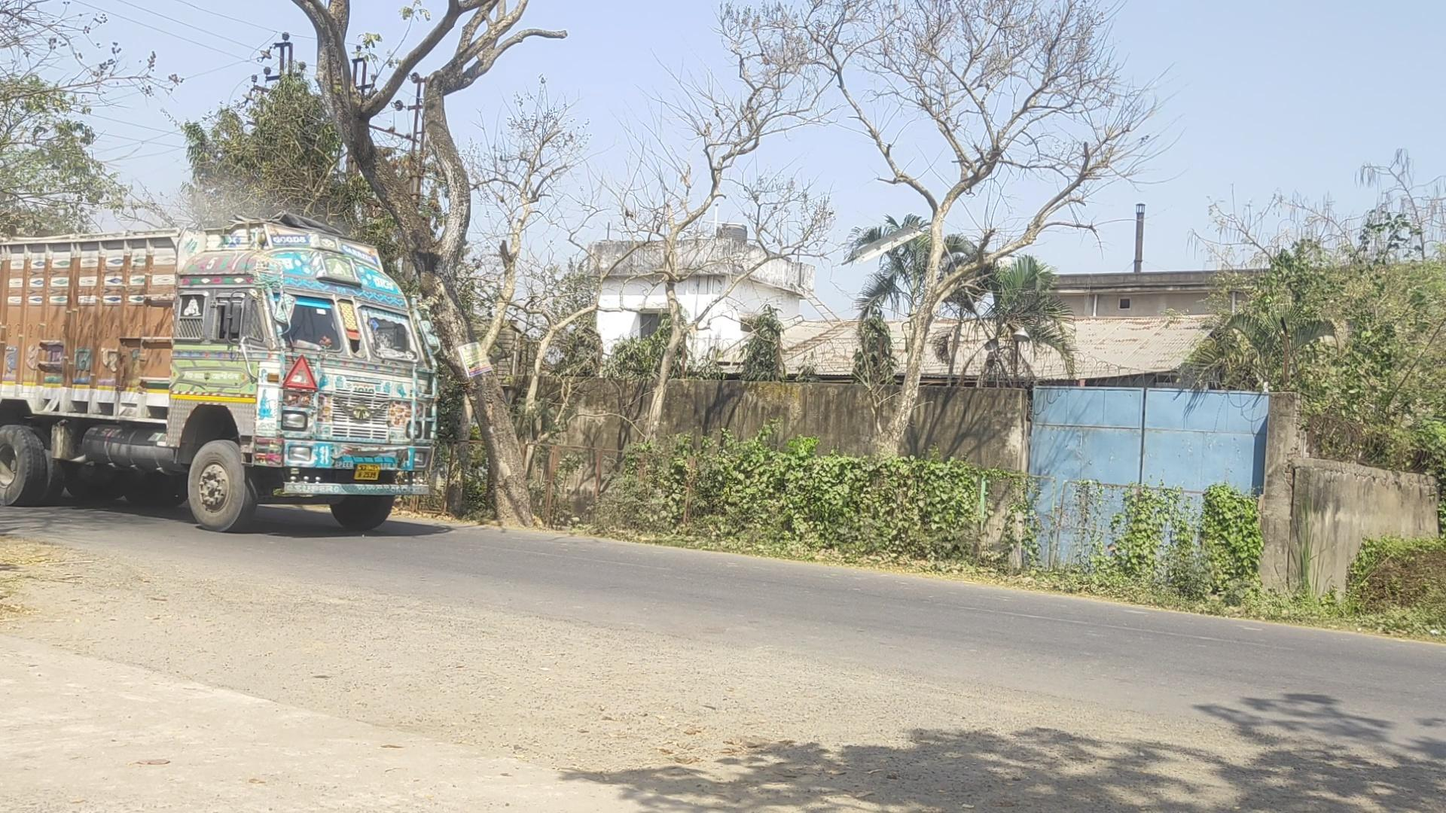truck: (1, 212, 440, 533)
